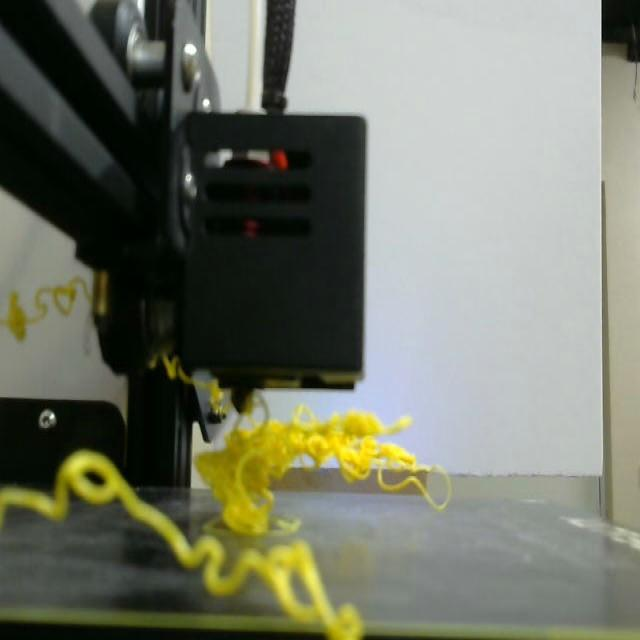spaghetti: (0, 450, 364, 638), (196, 407, 450, 536), (35, 282, 79, 316), (0, 293, 35, 334)
